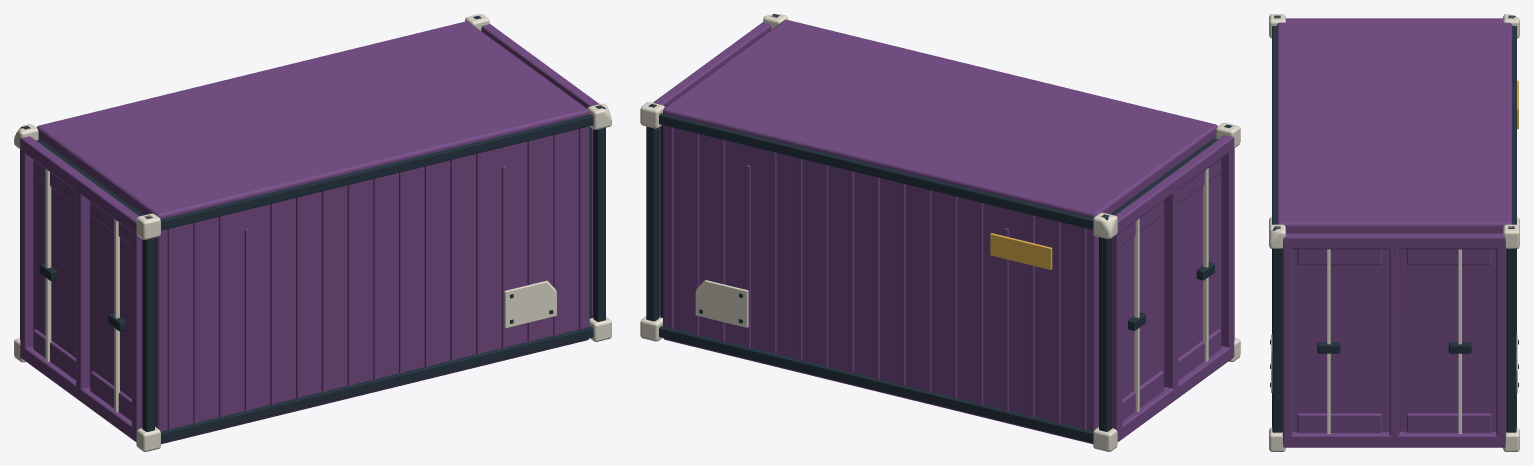
File: container_purple.glb
3 renders of one model, left to right at view 1: azimuth 30°, elevation 25°; view 2: azimuth 150°, elevation 25°; view 3: azimuth 270°, elevation 25°, orthographic. The views are drawn at different scales.
Parts seen in each view (by area): view 1: container_purple_purple, container_purple_ink, container_purple_cream; view 2: container_purple_purple, container_purple_ink, container_purple_cream, placard.003; view 3: container_purple_purple, container_purple_ink, container_purple_cream.
Boxes of the visible parts, <box> form: container_purple_purple: <box>20,21,598,444</box>; container_purple_ink: <box>20,15,605,442</box>; container_purple_cream: <box>14,14,611,451</box>; container_purple_purple: <box>653,20,1234,444</box>; container_purple_ink: <box>646,14,1234,442</box>; container_purple_cream: <box>640,14,1240,451</box>; placard.003: <box>990,233,1052,269</box>; container_purple_purple: <box>1276,18,1512,447</box>; container_purple_ink: <box>1270,15,1518,432</box>; container_purple_cream: <box>1269,14,1519,451</box>.
Size of the model in its own units: 6.17 by 2.9 by 2.98.
